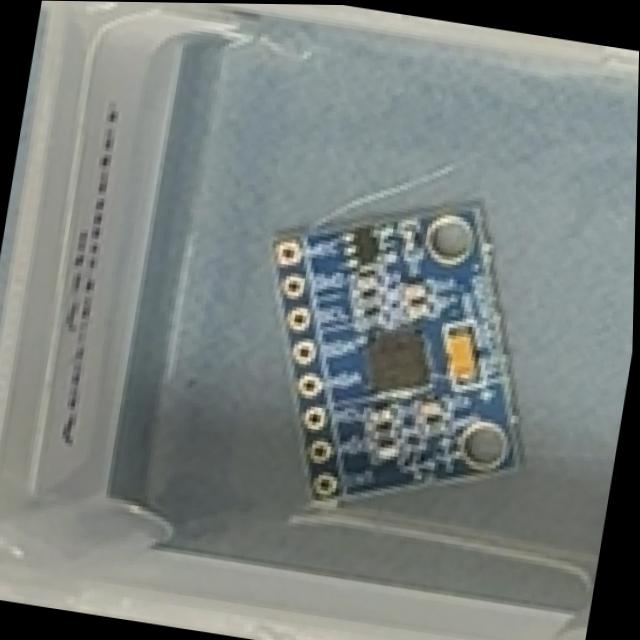Axis Accelerometer: (230, 165, 561, 536)
